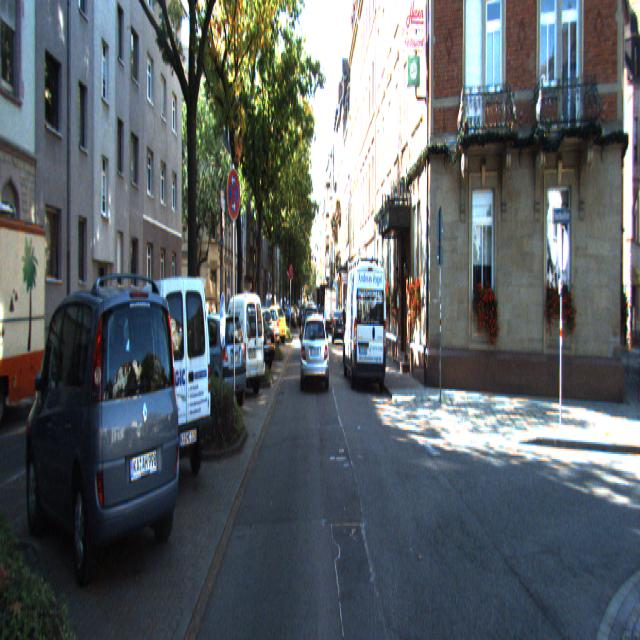Car: (26, 270, 188, 599), (117, 276, 216, 502), (0, 201, 51, 432), (182, 313, 250, 419), (205, 290, 268, 398), (343, 260, 388, 390), (228, 312, 278, 377), (301, 312, 329, 388), (302, 306, 320, 358)
